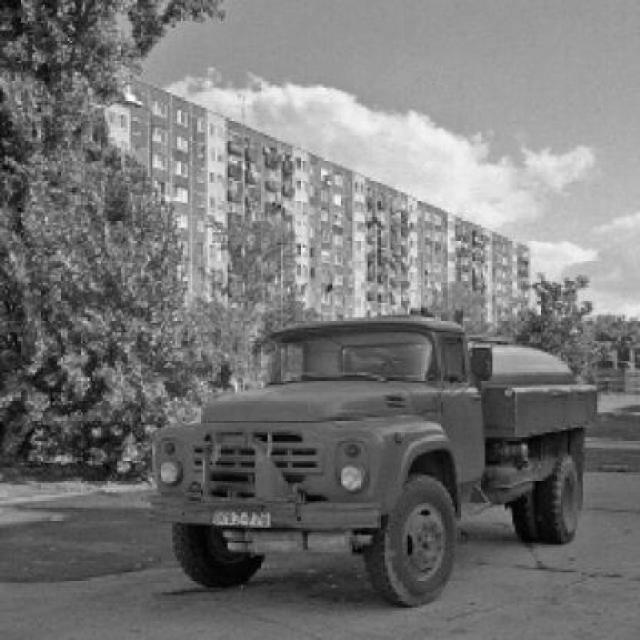Box Truck: (151, 315, 598, 611)
